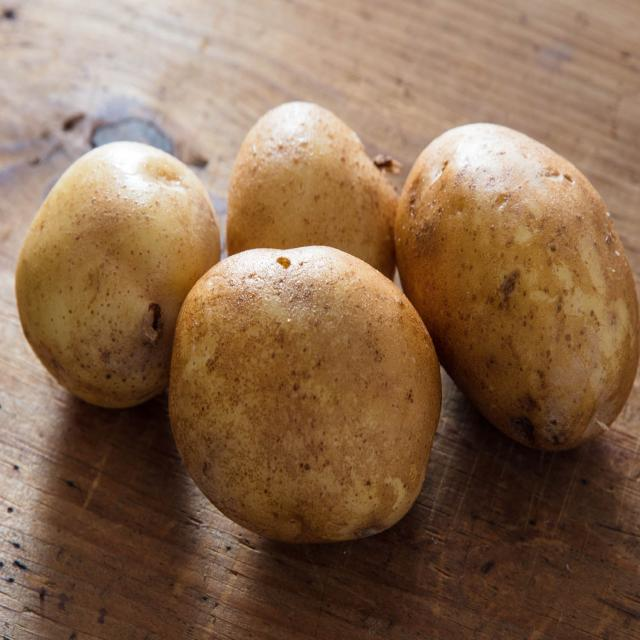potato: (170, 246, 448, 546), (394, 122, 634, 452), (16, 136, 218, 410)
